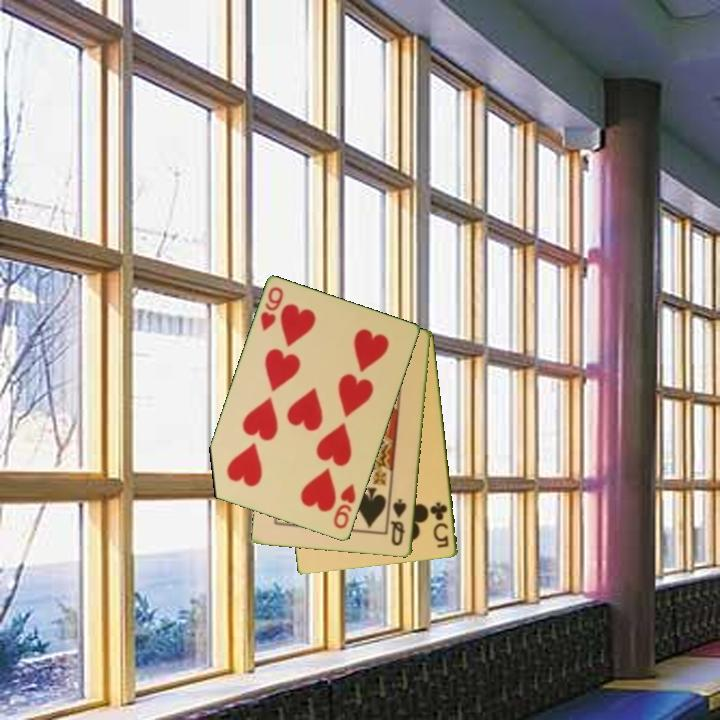5c: (427, 499, 452, 551)
9h: (330, 480, 359, 532), (257, 283, 286, 334)
Qs: (388, 495, 409, 549)
